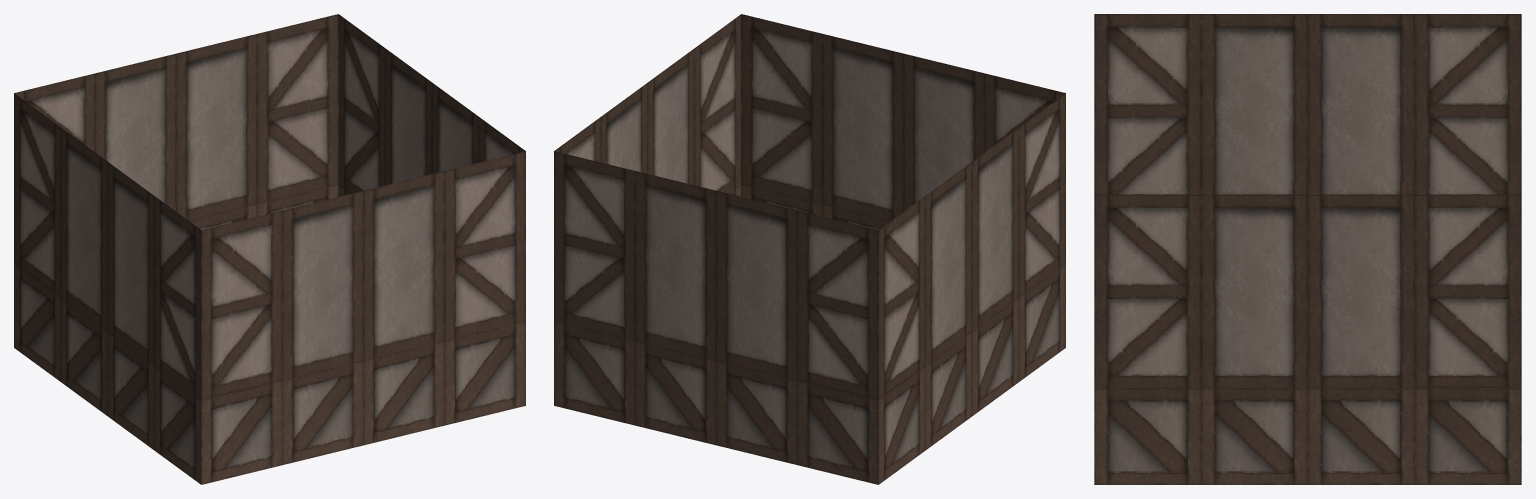
The model's file is plaster_wall_alt.glb.
The picture shows the model from 3 angles, left to right: view 1: azimuth 30°, elevation 25°; view 2: azimuth 150°, elevation 25°; view 3: azimuth 270°, elevation 25°; orthographic projection. The views are drawn at different scales.
Parts seen in each view (by area): view 1: plaster_wall_alt; view 2: plaster_wall_alt; view 3: plaster_wall_alt.
Part boxes in pixels (x1,y1,x2,y2): plaster_wall_alt: (14,14,525,484); plaster_wall_alt: (554,14,1065,484); plaster_wall_alt: (1094,14,1521,484).
Size of the model in its own units: 4 by 3 by 4.
Materials: 1 (1 with a texture image).
